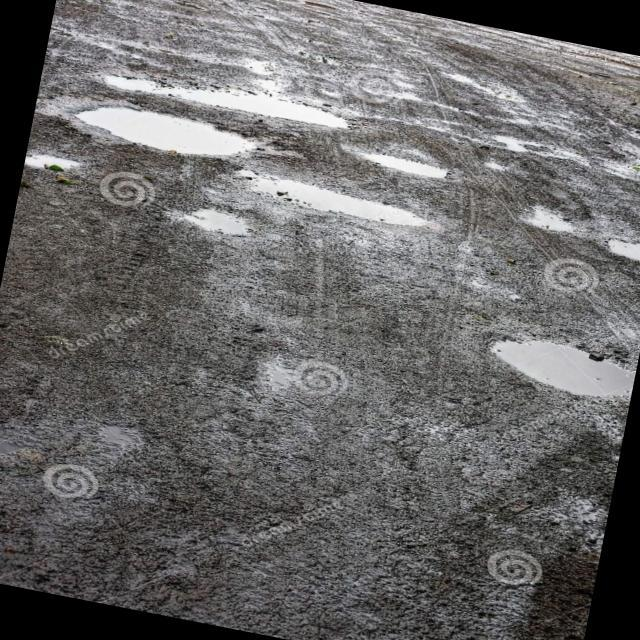Pothole: (90, 39, 368, 150), (463, 294, 640, 429), (56, 78, 278, 182), (244, 154, 451, 260), (331, 122, 483, 202), (468, 116, 610, 188), (168, 184, 274, 263), (21, 128, 110, 198), (601, 120, 640, 202), (600, 224, 640, 282)
